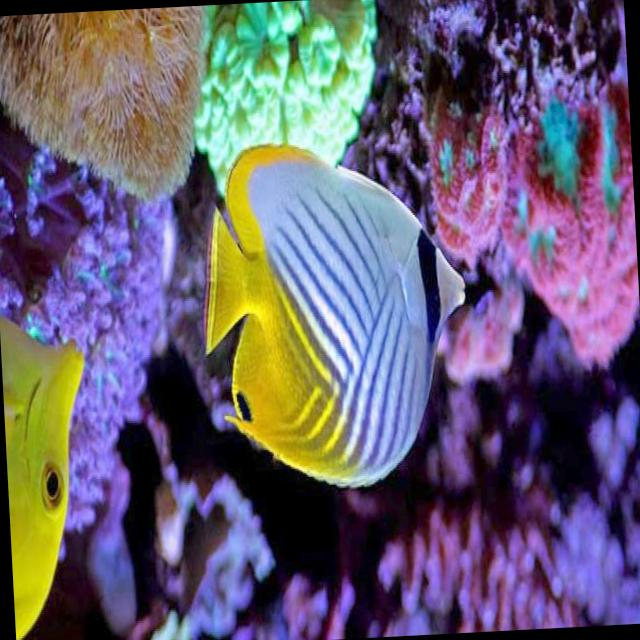ButterflyFish: (196, 135, 479, 495)
